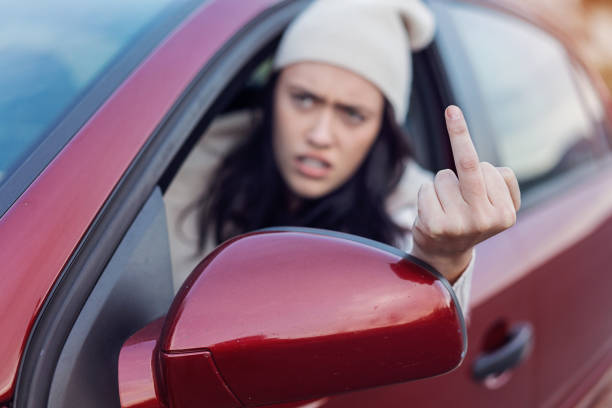insulting_gesture: (410, 105, 524, 256)
